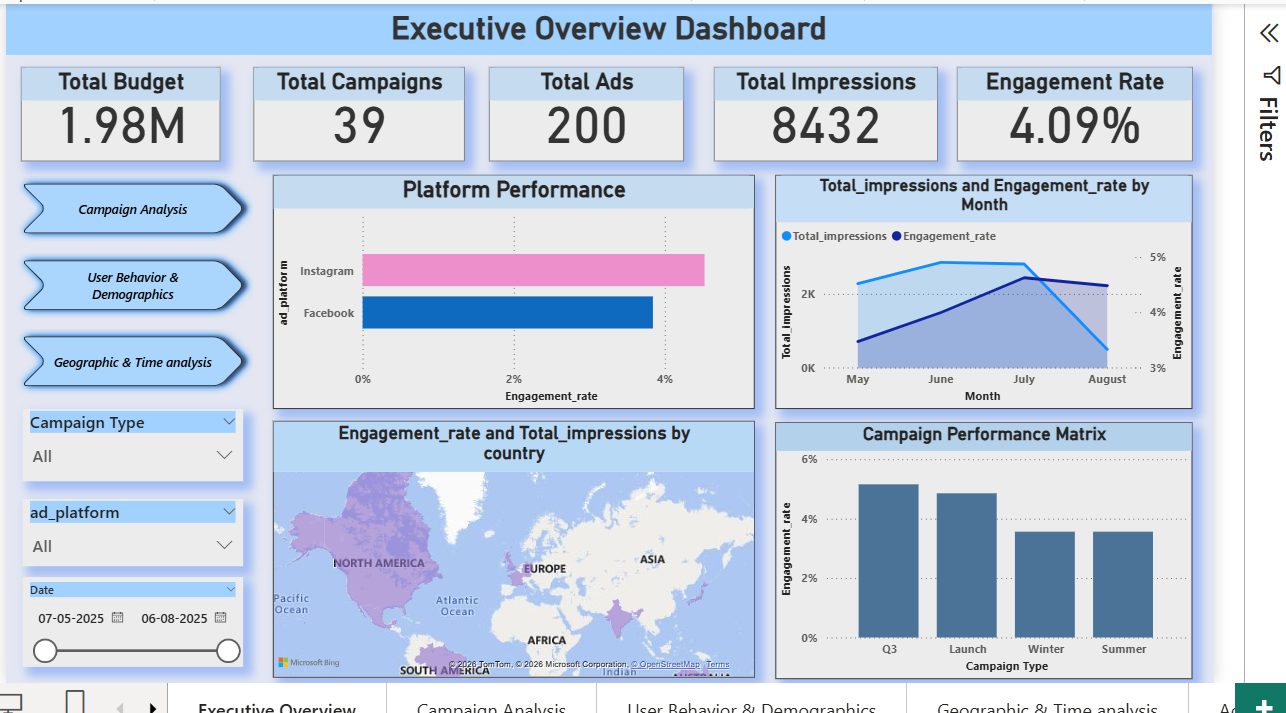

What the dashboard file says about the page in this screenshot:
{"tool":"powerbi","page":{"name":"Executive Overview ","canvas":[1280,720],"ordinal":0},"visuals":[{"type":"card","title":"Total Budget","fields":{"Values":["campaigns.Total Budget"]},"box":[15.9,66.8,211.6,100.2],"z":0},{"type":"card","title":"Total Campaigns","fields":{"Values":["campaigns.Total_Campaigns"]},"box":[262.5,66.8,224.3,100.2],"z":1000},{"type":"card","title":"Total Ads","fields":{"Values":["ads.Total_ads"]},"box":[512.2,66.8,206.8,100.2],"z":2000},{"type":"card","title":"Total Impressions","fields":{"Values":["ad_events.Total_impressions"]},"box":[750.8,66.8,237,100.2],"z":3000},{"type":"card","title":"Engagement Rate","fields":{"Values":["ad_events.Engagement_rate"]},"box":[1008.4,66.8,249.7,100.2],"z":4000},{"type":"clusteredBarChart","title":"Platform Performance","fields":{"Category":["ads.ad_platform"],"Y":["ad_events.Engagement_rate"]},"box":[283.1,181.3,510.6,248.1],"z":5000},{"type":"lineChart","fields":{"Y2":["ad_events.Engagement_rate"],"Category":["ad_events.timestamp.Variation.Date Hierarchy.Month"],"Y":["ad_events.Total_impressions"]},"box":[816,181.3,442.2,248.1],"z":6000},{"type":"textbox","box":[0,0,1278.9,54],"z":7000},{"type":"slicer","fields":{"Values":["campaigns.Campaign Type"]},"box":[17.5,429.5,233.8,76.3],"z":8000},{"type":"slicer","fields":{"Values":["ads.ad_platform"]},"box":[17.5,524.9,233.8,71.6],"z":9000},{"type":"slicer","fields":{"Values":["Date.Date"]},"box":[17.5,607.6,233.8,95.4],"z":10000},{"type":"filledMap","fields":{"Category":["users.country"]},"box":[283.1,442.2,510.6,272],"z":11000},{"type":"pageNavigator","box":[6.4,181.3,256.1,235.4],"z":12000},{"type":"columnChart","title":"Campaign Performance Matrix","fields":{"Y":["ad_events.Engagement_rate"],"Category":["campaigns.Campaign Type"]},"box":[816,443.8,442.2,272],"z":13000}]}

Visuals, with their boxes on the page's 1280x720 design canvas (x1, y1, x2, y2). These are canvas units, not pixel positions in the 1286x713 screenshot, which may show the page scaled, cropped or inside an application window:
"Total Budget" card: bbox=[16, 67, 228, 167]
"Total Campaigns" card: bbox=[262, 67, 487, 167]
"Total Ads" card: bbox=[512, 67, 719, 167]
"Total Impressions" card: bbox=[751, 67, 988, 167]
"Engagement Rate" card: bbox=[1008, 67, 1258, 167]
"Platform Performance" clusteredBarChart: bbox=[283, 181, 794, 429]
lineChart - ad_events.Engagement_rate x ad_events.timestamp.Variation.Date Hierarchy.Month: bbox=[816, 181, 1258, 429]
textbox: bbox=[0, 0, 1279, 54]
slicer - campaigns.Campaign Type: bbox=[18, 430, 251, 506]
slicer - ads.ad_platform: bbox=[18, 525, 251, 596]
slicer - Date.Date: bbox=[18, 608, 251, 703]
filledMap - users.country: bbox=[283, 442, 794, 714]
pageNavigator: bbox=[6, 181, 262, 417]
"Campaign Performance Matrix" columnChart: bbox=[816, 444, 1258, 716]
